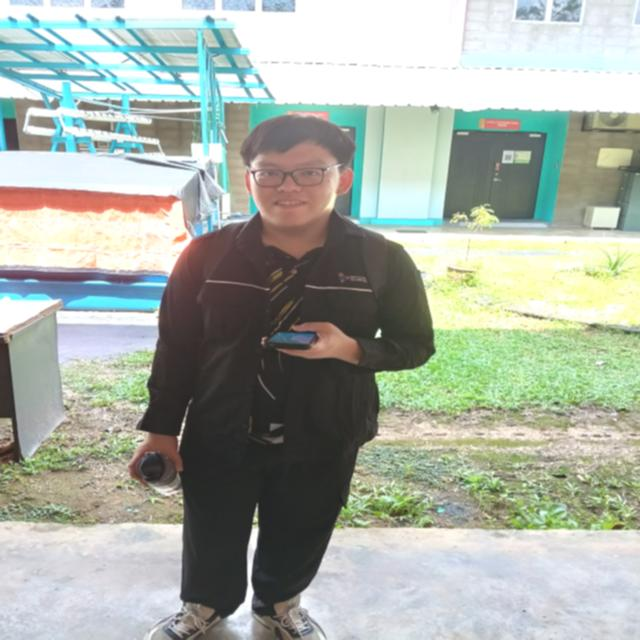person_with_labcoat: (130, 114, 435, 640)
